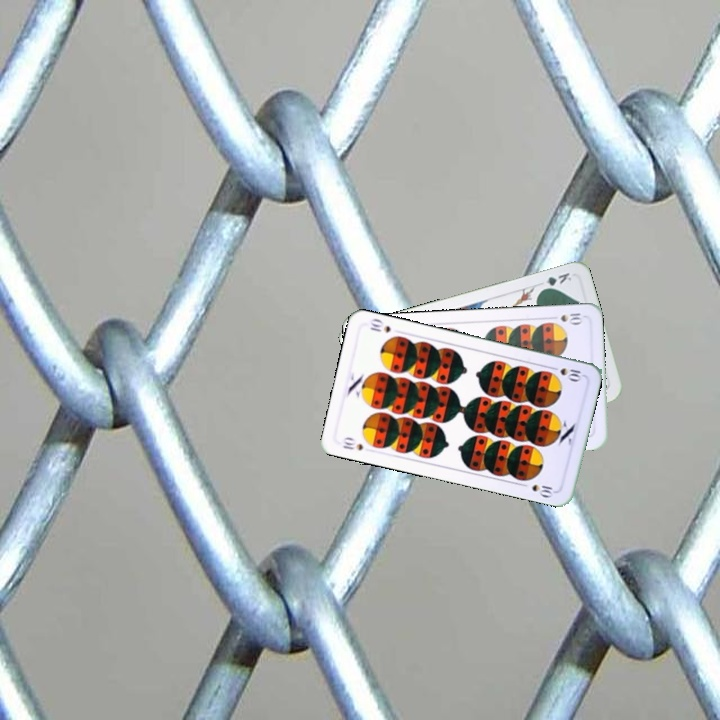GK: (537, 268, 574, 293)
S10: (546, 362, 586, 383), (546, 308, 585, 326), (338, 433, 365, 453)
